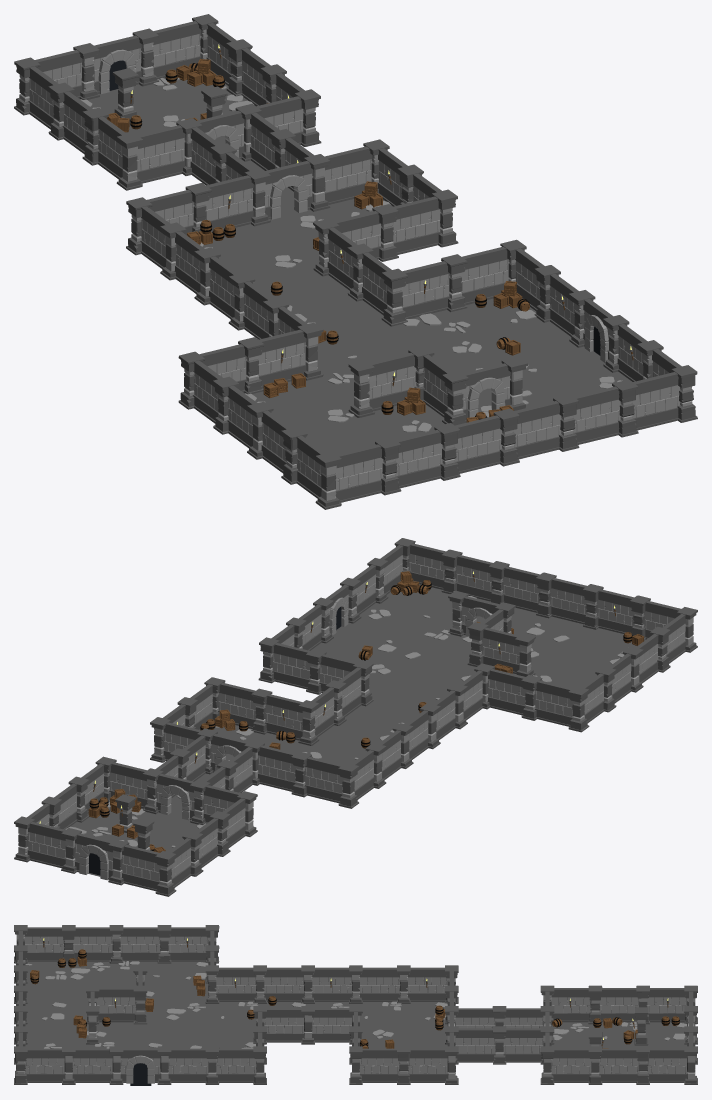
Rendered from background_nocamera.glb.
3 renders of one model, top to bottom at view 1: azimuth 30°, elevation 25°; view 2: azimuth 150°, elevation 25°; view 3: azimuth 270°, elevation 25°, orthographic. The views are drawn at different scales.
Visible parts, largest first — view 1: Cube.039, Cube.054, Cube.053, Cube.040, Cube.029, Cube.044, Cube.045, Cube.041, Cube.043, Cube.056, Cube.006, Cube.005 (+65 smaller); view 2: Cube.012, Cube.055, Cube.031, Cube.056, Cube.028, Cube.040, Cube.006, Cube.043, Cube.053, Cube.041, Cube.044, Cube.030 (+62 smaller); view 3: Cube.027, Cube.036, Cube.047, Cube.048, Cube.004, Cube.049, Cube.003, Cube.026, Cube.051, Cube.042, Cube.034, Cube.033 (+74 smaller).
Part boxes in pixels (bbox=[...]): Cube.039: bbox=[381, 261, 450, 326]; Cube.054: bbox=[335, 437, 401, 502]; Cube.053: bbox=[395, 423, 460, 488]; Cube.040: bbox=[454, 408, 519, 473]; Cube.029: bbox=[392, 189, 458, 254]; Cube.044: bbox=[573, 379, 638, 444]; Cube.045: bbox=[632, 365, 697, 430]; Cube.041: bbox=[514, 394, 579, 459]; Cube.043: bbox=[441, 246, 509, 312]; Cube.056: bbox=[238, 329, 306, 394]; Cube.006: bbox=[132, 21, 201, 86]; Cube.005: bbox=[136, 118, 202, 183]; Cube.012: bbox=[121, 845, 176, 896]; Cube.055: bbox=[535, 680, 589, 732]; Cube.031: bbox=[304, 757, 359, 808]; Cube.056: bbox=[487, 669, 542, 720]; Cube.028: bbox=[257, 745, 311, 797]; Cube.040: bbox=[535, 572, 587, 624]; Cube.006: bbox=[27, 822, 81, 873]; Cube.043: bbox=[272, 643, 326, 694]; Cube.053: bbox=[582, 584, 634, 633]; Cube.041: bbox=[488, 561, 540, 612]; Cube.044: bbox=[441, 549, 493, 601]; Cube.030: bbox=[251, 688, 303, 740]; Cube.027: bbox=[360, 1046, 410, 1084]; Cube.036: bbox=[205, 965, 256, 1003]; Cube.047: bbox=[168, 1046, 219, 1084]; Cube.048: bbox=[72, 1046, 123, 1084]; Cube.004: bbox=[551, 1046, 602, 1084]; Cube.049: bbox=[216, 1046, 266, 1084]; Cube.003: bbox=[599, 1046, 649, 1084]; Cube.026: bbox=[408, 1046, 458, 1084]; Cube.051: bbox=[109, 925, 160, 963]; Cube.042: bbox=[157, 925, 208, 963]; Cube.034: bbox=[301, 965, 351, 1003]; Cube.033: bbox=[349, 965, 399, 1003].
Size of what is drawn, in the model's own units: 25.15 by 3.53 by 57.15.
